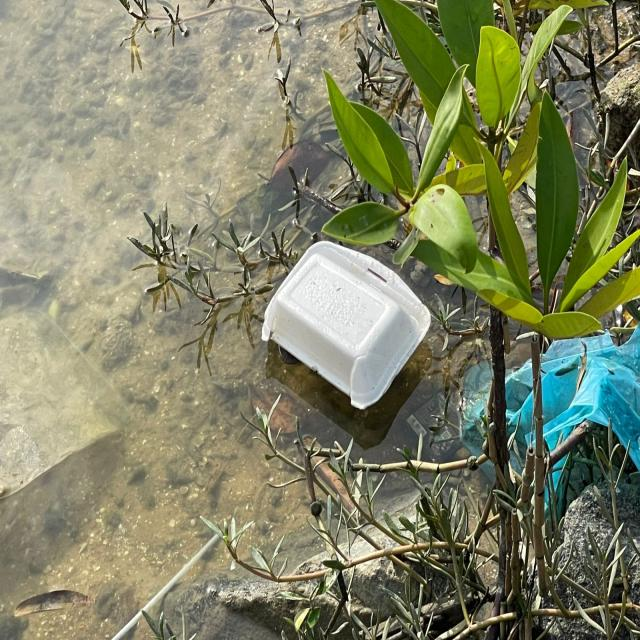Bungkus Makanan: (257, 232, 434, 418)
Kantong Plastik: (465, 322, 640, 486)
